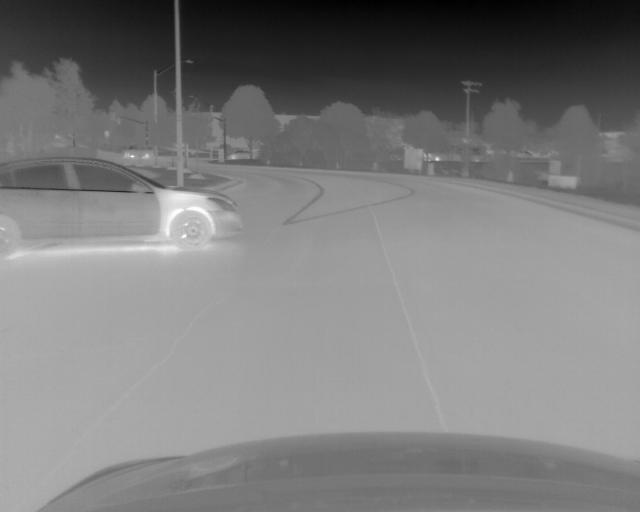car: (1, 155, 244, 256), (121, 144, 151, 162)
